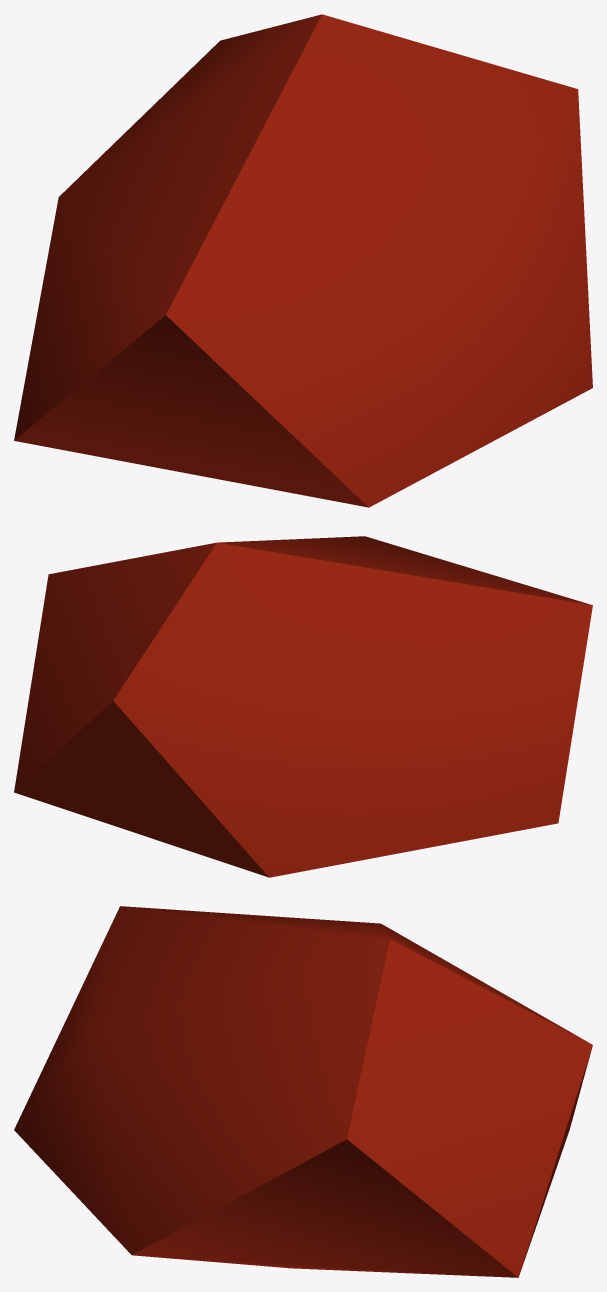
Rendered from SM_Small_Rock_03.fbx.
3 renders of one model, top to bottom at view 1: azimuth 30°, elevation 25°; view 2: azimuth 150°, elevation 25°; view 3: azimuth 270°, elevation 25°, orthographic. The views are drawn at different scales.
Visible parts, largest first — view 1: SM_Small_Rock_03; view 2: SM_Small_Rock_03; view 3: SM_Small_Rock_03.
Boxes of the visible parts, x1,y1,x2,y2 form: SM_Small_Rock_03: [14, 14, 592, 507]; SM_Small_Rock_03: [14, 536, 592, 877]; SM_Small_Rock_03: [14, 906, 592, 1277].
Size of the model in its own units: 5.41 by 3.57 by 5.16.
